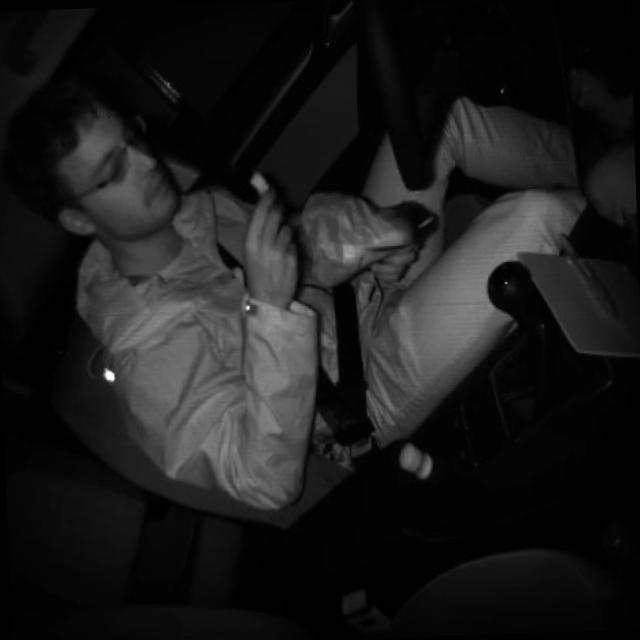pen: (556, 228, 620, 326)
